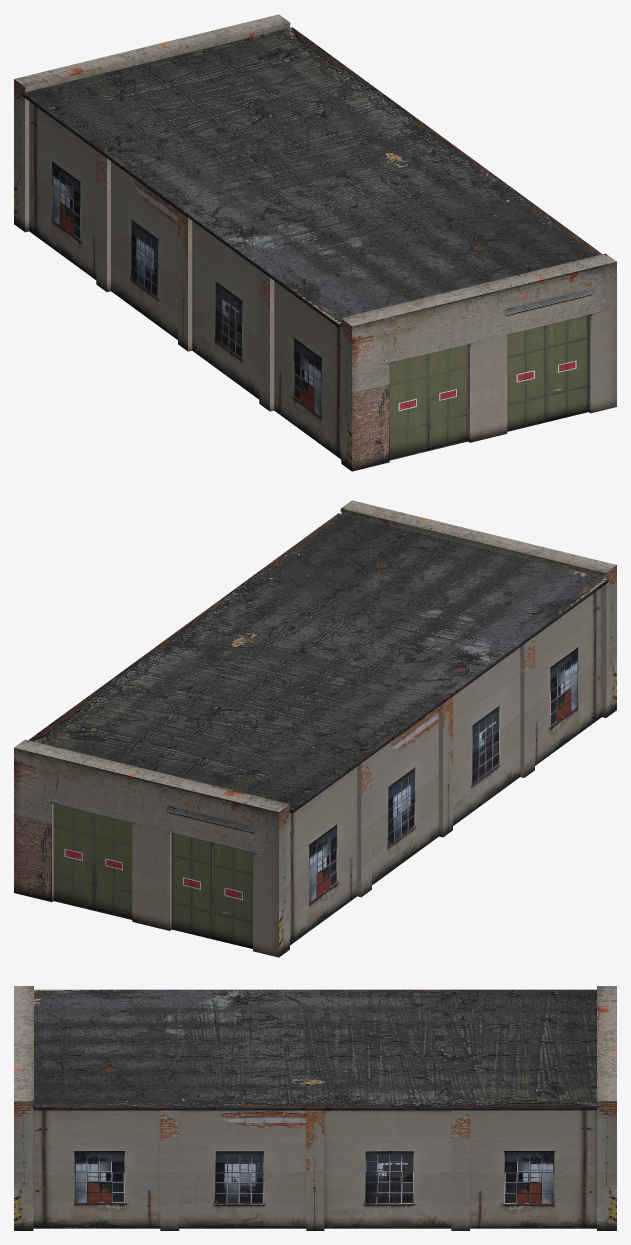
The model's file is Depo_UZD.FBX.
3 renders of one model, top to bottom at view 1: azimuth 30°, elevation 25°; view 2: azimuth 150°, elevation 25°; view 3: azimuth 270°, elevation 25°, orthographic. The views are drawn at different scales.
Visible parts, largest first — view 1: Box001; view 2: Box001; view 3: Box001.
Boxes of the visible parts, bbox=[...] form: Box001: bbox=[14, 14, 616, 471]; Box001: bbox=[14, 500, 616, 957]; Box001: bbox=[14, 986, 616, 1230].
Size of the model in its own units: 11.66 by 6 by 25.31.
Materials: 1 (1 with a texture image).
